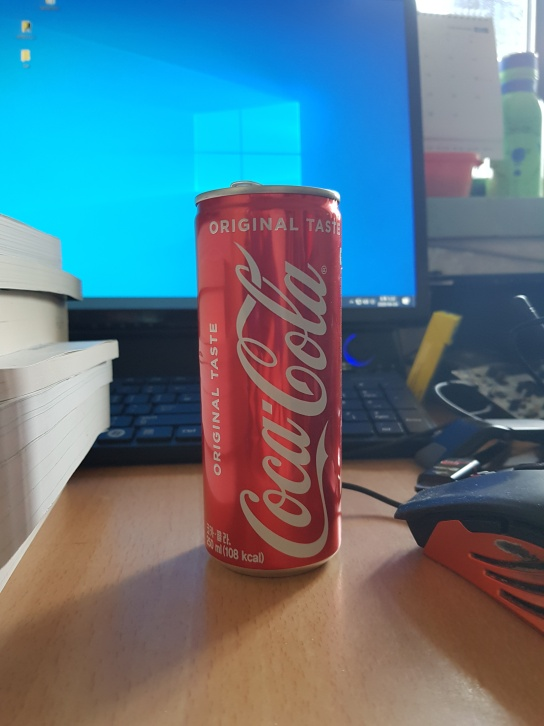Can: (190, 180, 353, 588)
